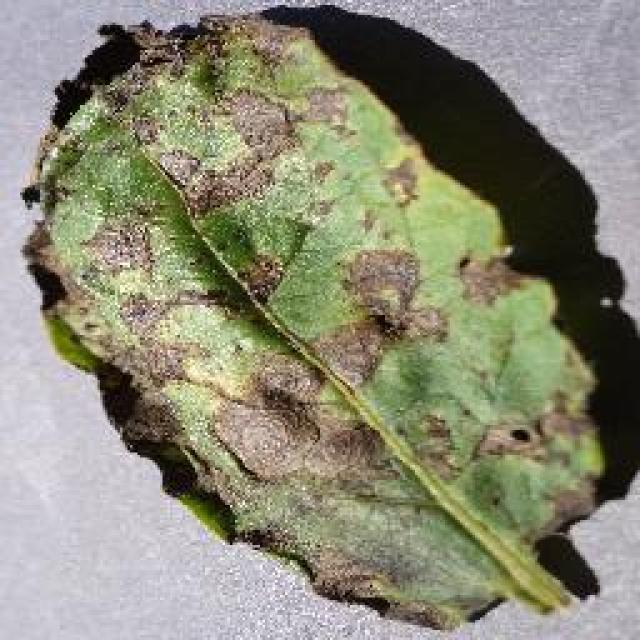early_blight: (20, 5, 610, 635)
